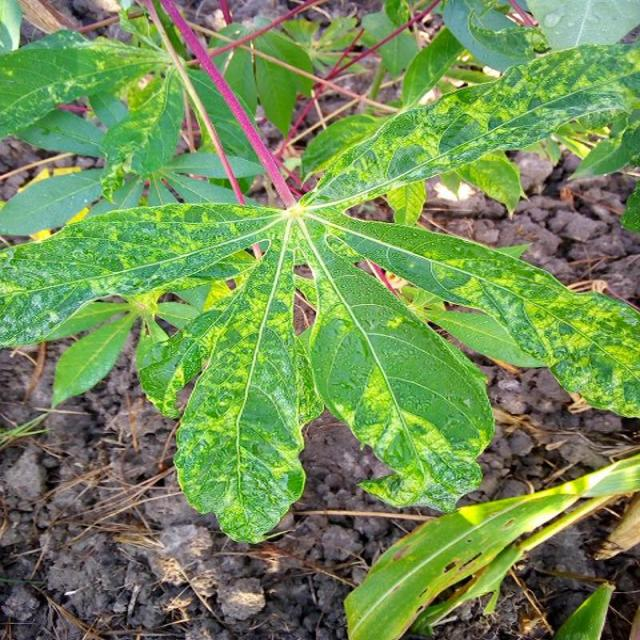cassava leaf: (1, 2, 638, 544), (304, 222, 495, 513)
